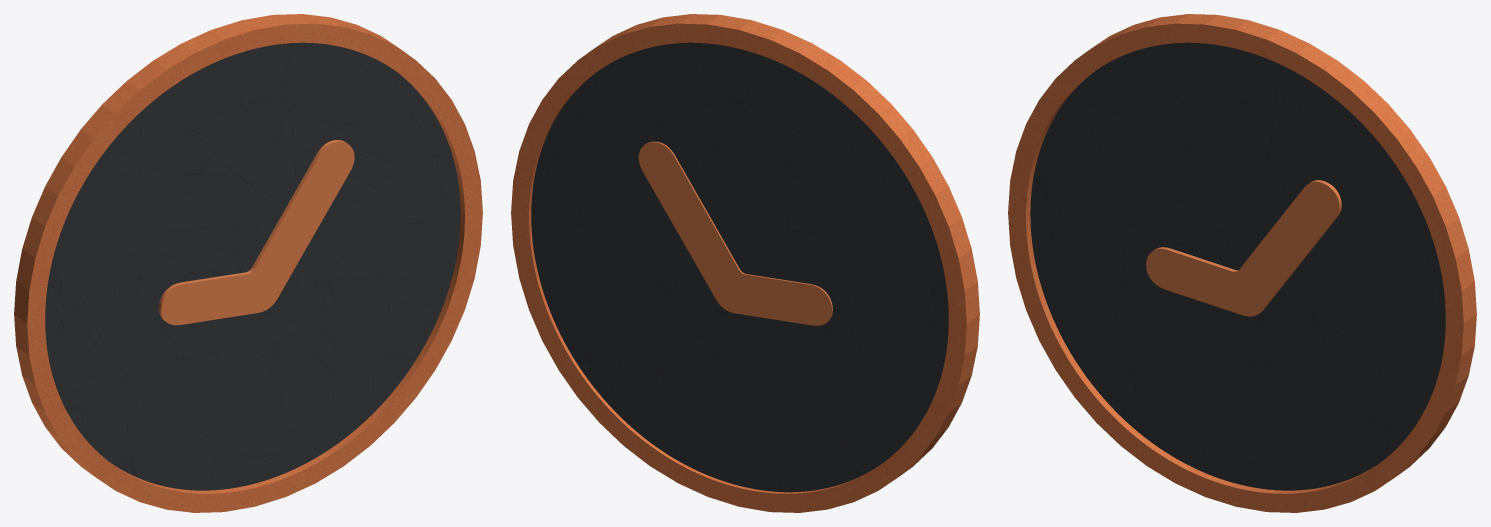
File: time.glb
3 views of the same model, side by side, from view 1: azimuth 30°, elevation 25°; view 2: azimuth 150°, elevation 25°; view 3: azimuth 330°, elevation 25° (orthographic).
Parts seen in each view (by area): view 1: Curve.002; view 2: Curve.002; view 3: Curve.002.
Boxes of the visible parts, x1,y1,x2,y2 form: Curve.002: (14, 14, 482, 512); Curve.002: (511, 14, 979, 512); Curve.002: (1008, 14, 1476, 512).
Size of the model in its own units: 0.4 by 0.3999 by 0.02.
3 materials, 3 textured.
